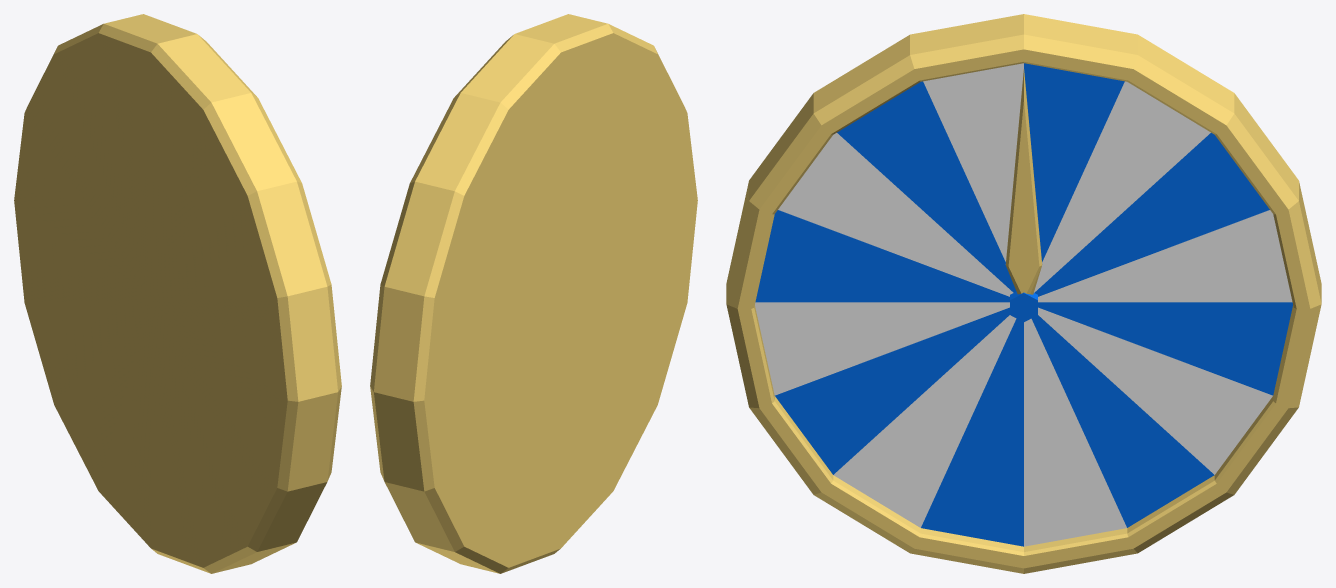
File: clockwork.glb
The picture shows the model from 3 angles, left to right: view 1: azimuth 30°, elevation 25°; view 2: azimuth 150°, elevation 25°; view 3: azimuth 270°, elevation 25°; orthographic projection. The views are drawn at different scales.
Visible parts, largest first — view 1: clockwork; view 2: clockwork; view 3: clockwork, clockwork_arrow.
Part boxes in pixels (bbox=[...]): clockwork: bbox=[14, 14, 341, 573]; clockwork: bbox=[370, 14, 697, 573]; clockwork: bbox=[726, 14, 1321, 573]; clockwork_arrow: bbox=[1005, 69, 1042, 294].
Size of what is drawn, in the model's own units: 0.4687 by 4.12 by 4.12.
